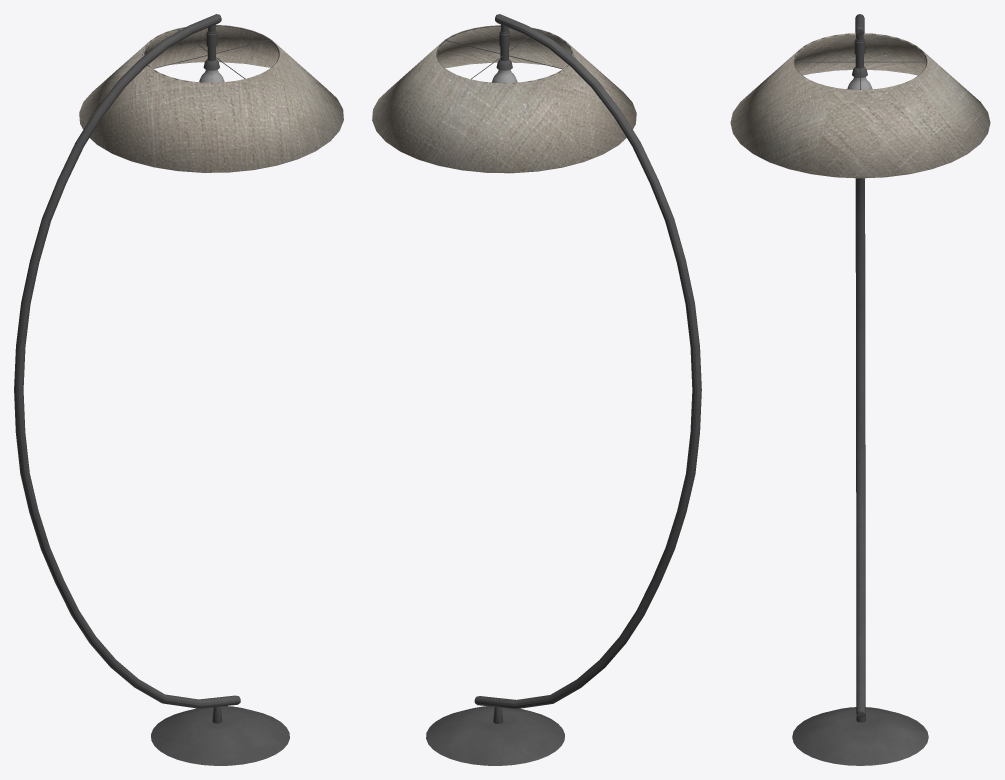
File: floorlamp7.glb
3 renders of one model, left to right at view 1: azimuth 30°, elevation 25°; view 2: azimuth 150°, elevation 25°; view 3: azimuth 270°, elevation 25°, orthographic. The views are drawn at different scales.
Parts seen in each view (by area): view 1: Cover_0, Frame_2; view 2: Cover_0, Frame_2; view 3: Cover_0, Frame_2.
Boxes of the visible parts, box(x1,y1,x2,y2) form: Cover_0: box(79, 24, 343, 172); Frame_2: box(14, 14, 289, 765); Cover_0: box(372, 25, 636, 173); Frame_2: box(426, 14, 701, 765); Cover_0: box(730, 33, 990, 178); Frame_2: box(792, 14, 928, 765).
Size of the model in its own units: 0.9761 by 2.16 by 0.7194.
Materials: 3 (3 with a texture image).
